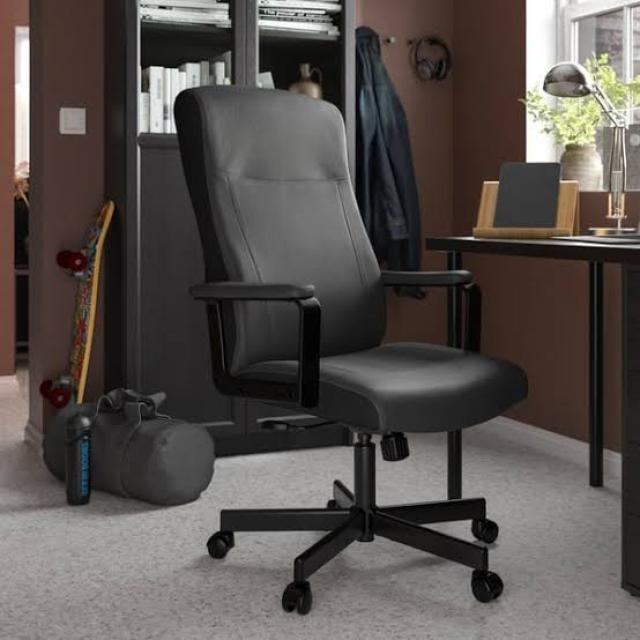Chair: (159, 75, 543, 639)
